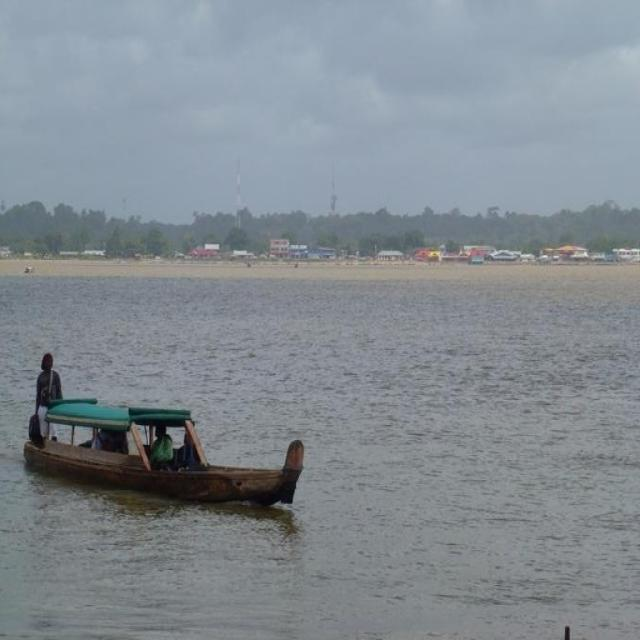boat: (18, 443, 304, 506)
